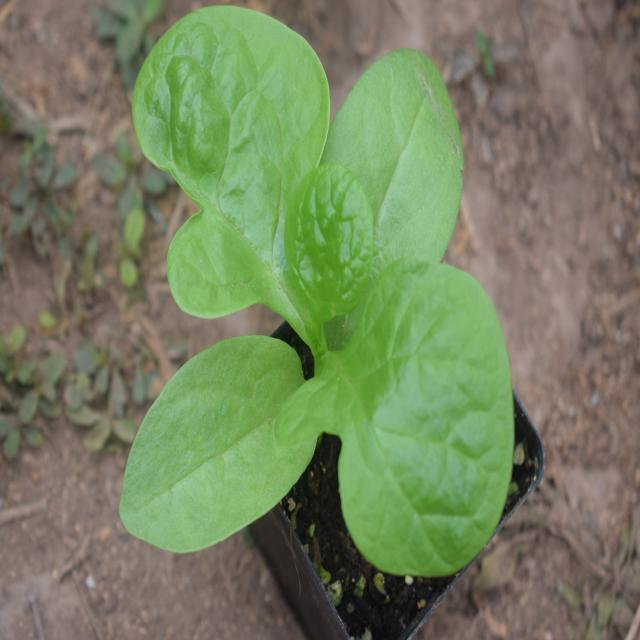Ceylon spinach: (110, 26, 528, 544)
